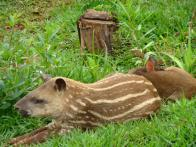Anta: (11, 71, 164, 126), (127, 59, 196, 100)
